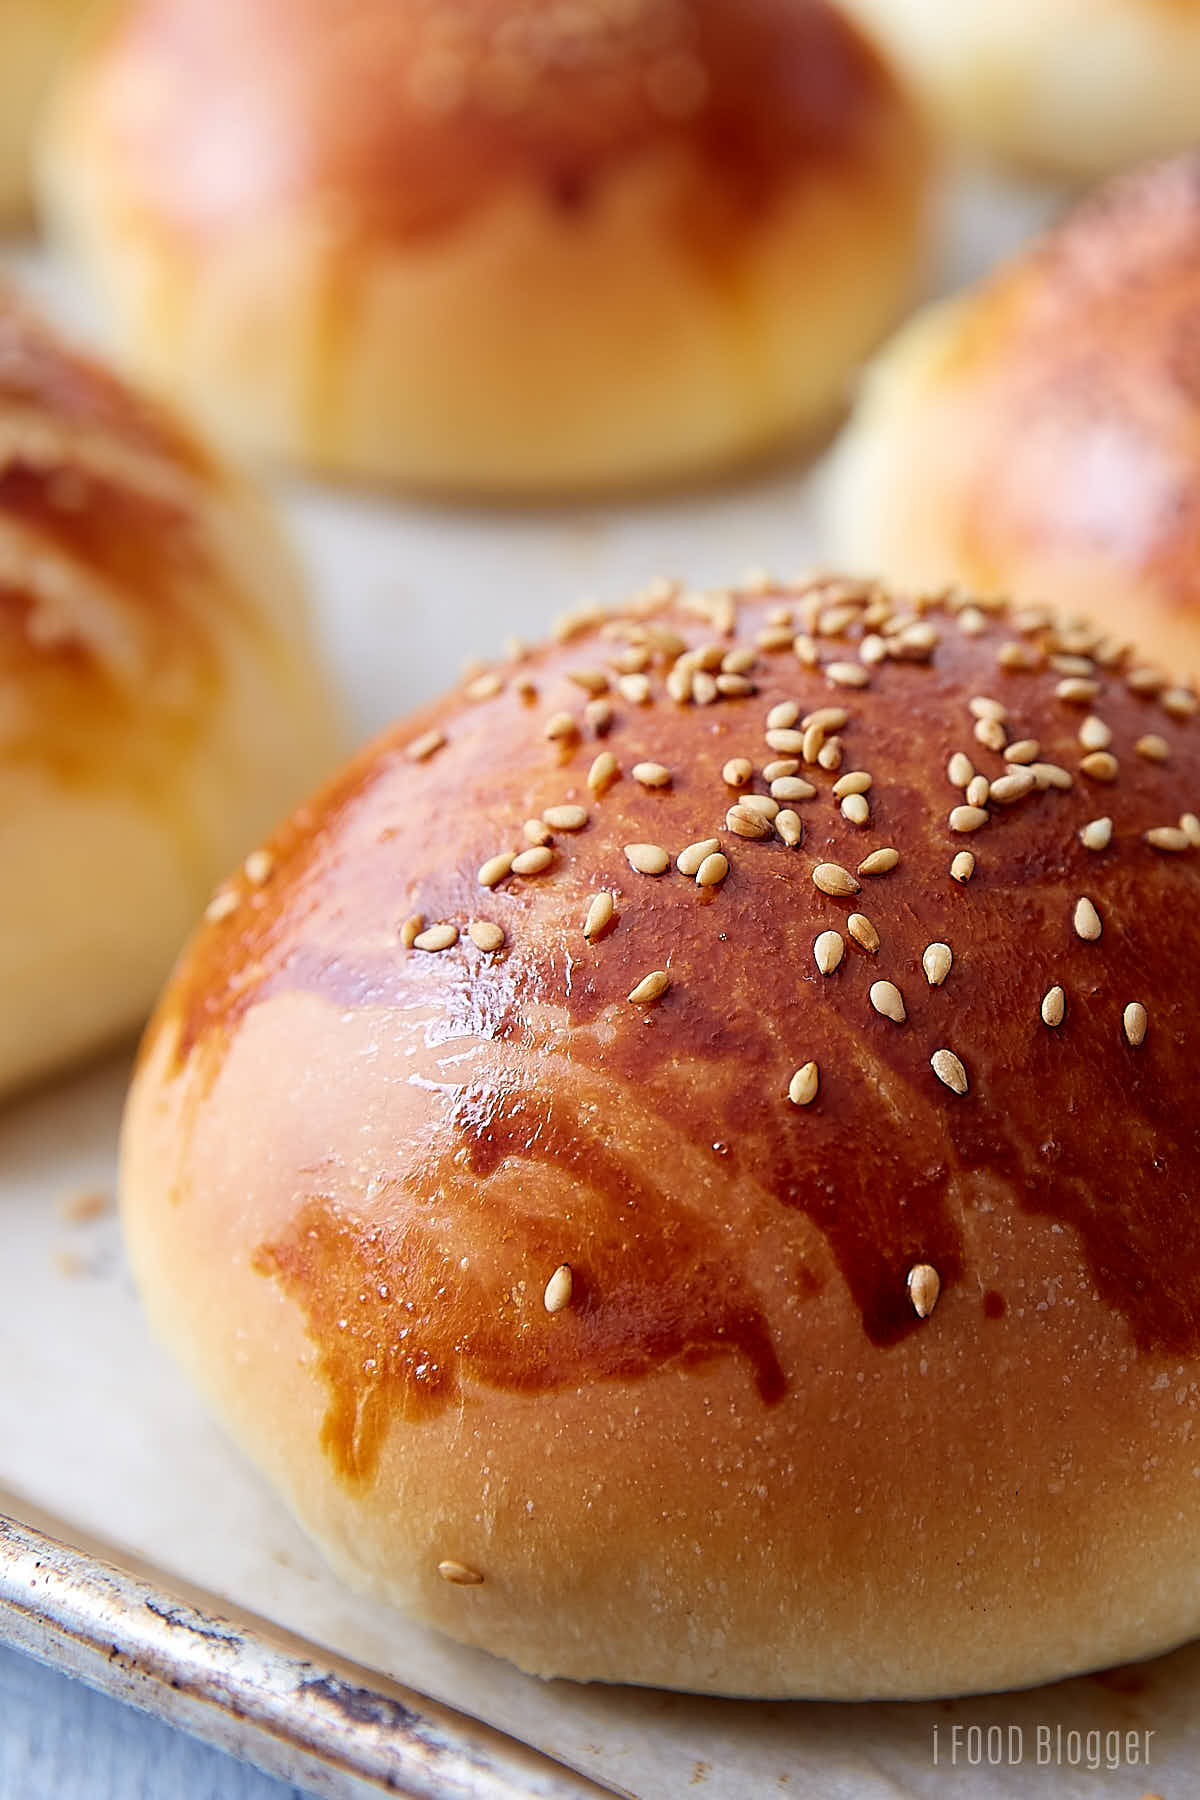hamburger_buns: (82, 532, 1200, 1682)
